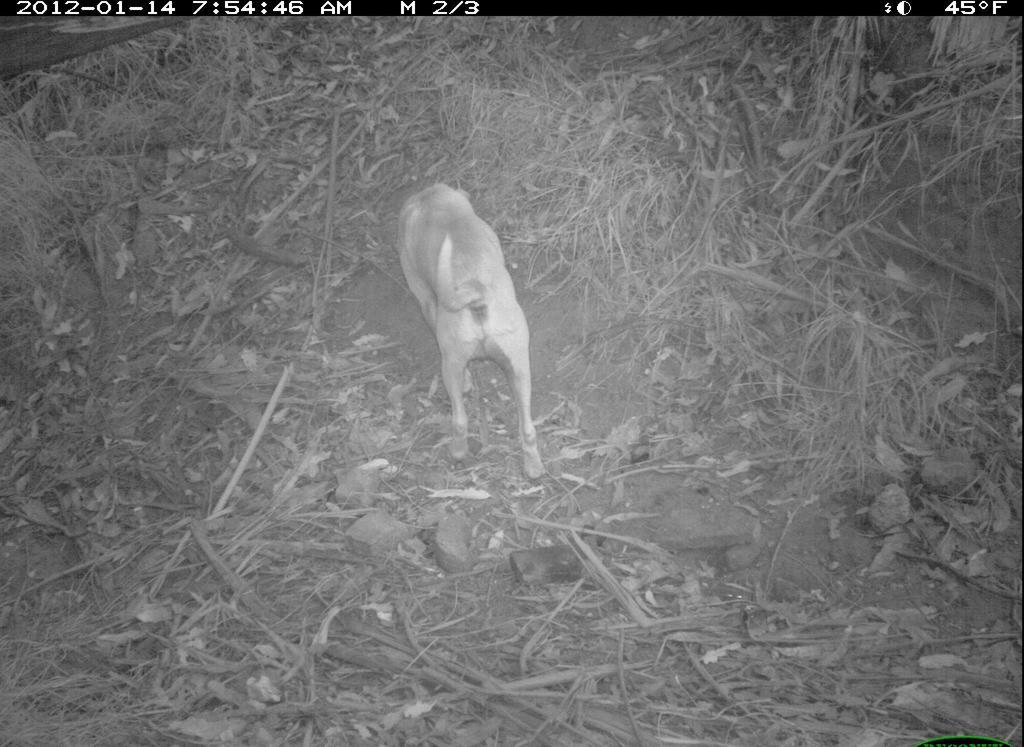dog: (393, 177, 555, 495)
